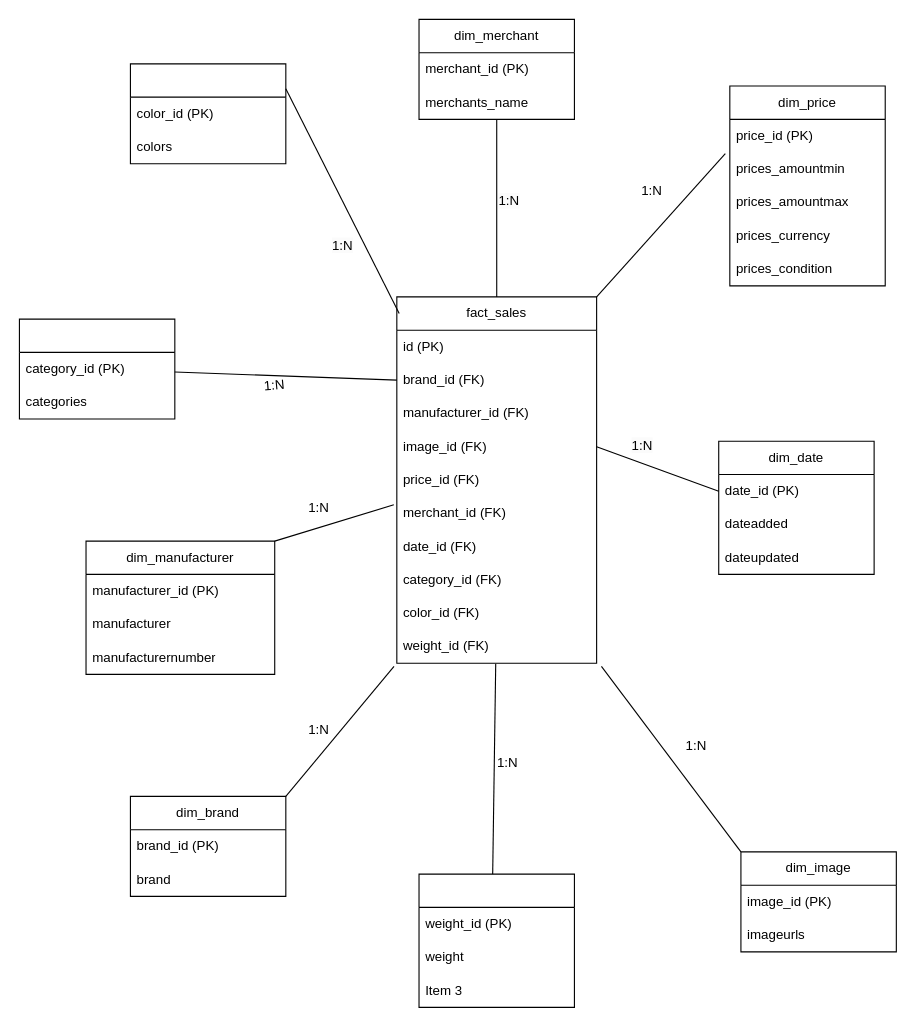
This 916x1027 diagram has some shape labels left out. The box of each missing label's shape, as (x1, y1, x2, y2) in pixels:
dim_category: (18, 318, 175, 419)
dim_color: (129, 63, 286, 164)
dim_weight: (418, 873, 574, 1007)
